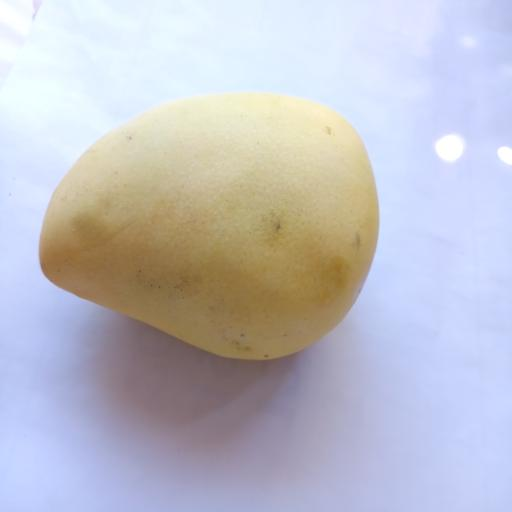mango-ripe: (22, 53, 409, 375)
